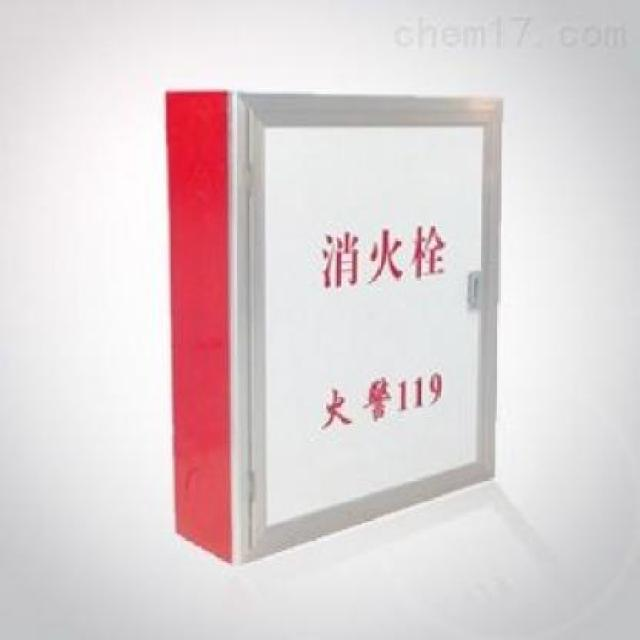firehydrant: (158, 83, 507, 572)
